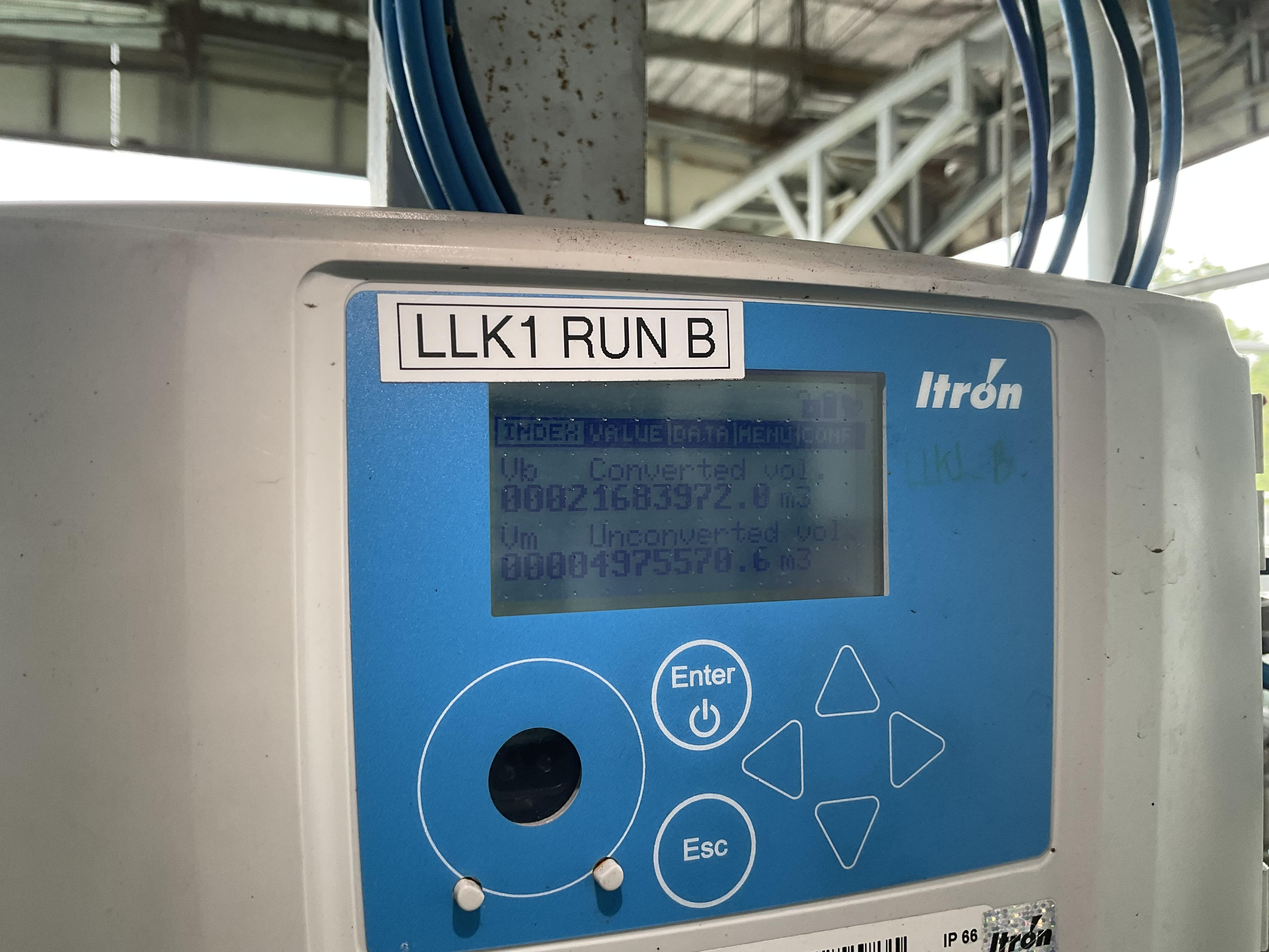digital_screen: (489, 366, 890, 617)
